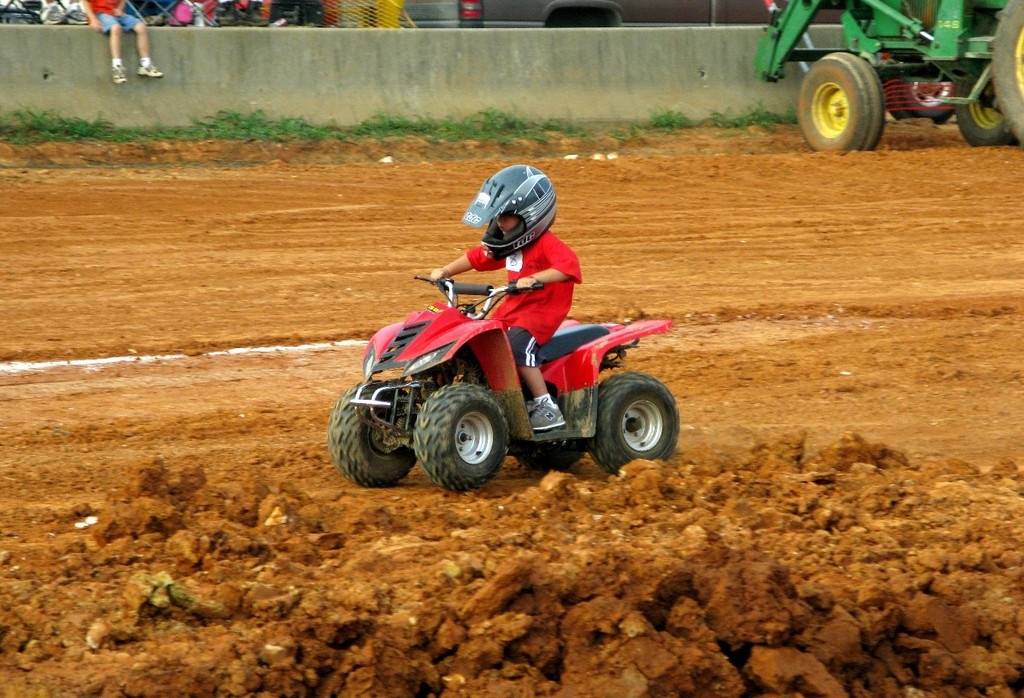Person: (430, 164, 582, 431), (78, 0, 162, 84)
